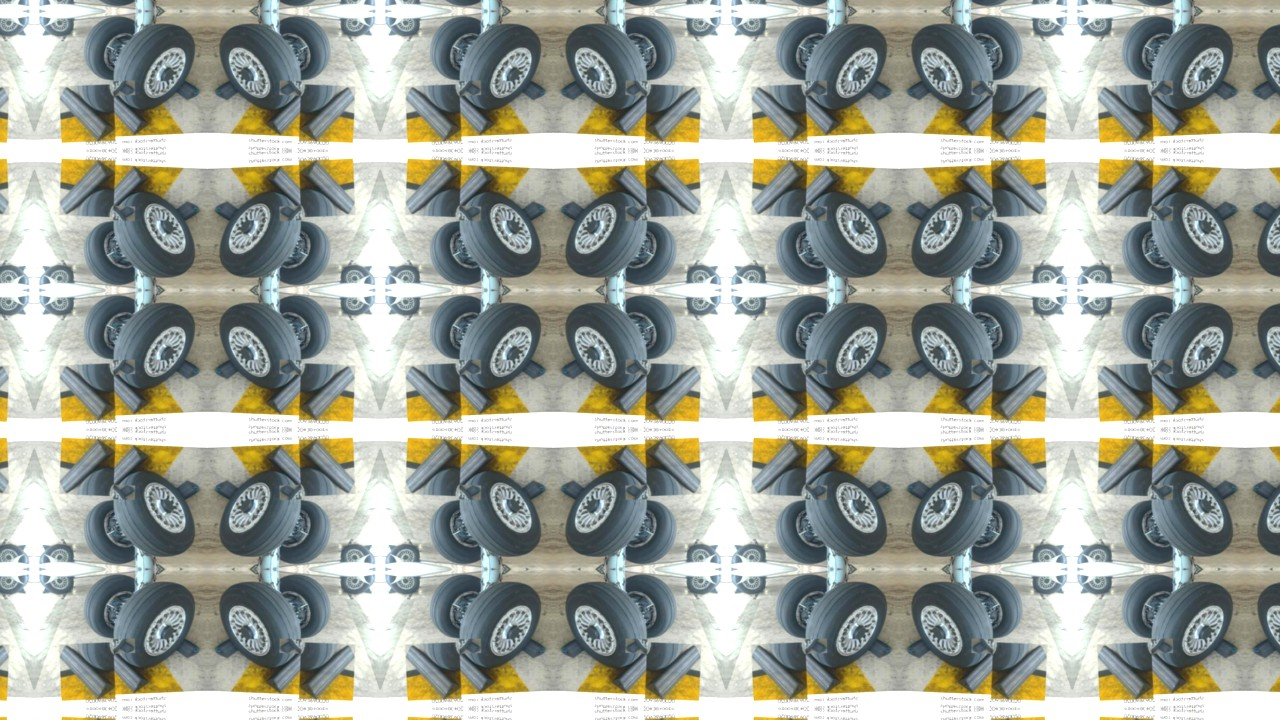chock: (58, 83, 114, 142), (298, 83, 354, 142), (405, 83, 461, 142), (645, 83, 701, 142), (752, 83, 808, 142), (992, 83, 1048, 142), (1099, 83, 1155, 142), (58, 158, 114, 217), (298, 158, 354, 217), (405, 158, 461, 217), (645, 158, 701, 217), (752, 158, 808, 217), (992, 158, 1048, 217), (1099, 158, 1155, 217), (58, 363, 114, 422), (298, 363, 354, 422), (405, 363, 461, 422), (645, 363, 701, 422), (752, 363, 808, 422), (992, 363, 1048, 422), (1099, 363, 1155, 422), (58, 438, 114, 497), (298, 438, 354, 497), (405, 438, 461, 497), (645, 438, 701, 497), (752, 438, 808, 497), (992, 438, 1048, 497), (1099, 438, 1155, 497), (58, 643, 114, 702), (298, 643, 354, 702), (405, 643, 461, 702), (645, 643, 701, 702), (752, 643, 808, 702), (992, 643, 1048, 702), (1099, 643, 1155, 702), (98, 84, 148, 135), (264, 84, 314, 135), (445, 84, 495, 135), (611, 84, 661, 135), (792, 84, 842, 135), (958, 84, 1008, 135), (1139, 84, 1189, 135), (98, 165, 148, 216), (264, 165, 314, 216), (445, 165, 495, 216), (611, 165, 661, 216), (792, 165, 842, 216), (958, 165, 1008, 216), (1139, 165, 1189, 216), (98, 364, 148, 415), (264, 364, 314, 415), (445, 364, 495, 415), (611, 364, 661, 415), (792, 364, 842, 415), (958, 364, 1008, 415), (1139, 364, 1189, 415), (98, 445, 148, 496), (264, 445, 314, 496), (445, 445, 495, 496), (611, 445, 661, 496), (792, 445, 842, 496), (958, 445, 1008, 496), (1139, 445, 1189, 496), (98, 644, 148, 695), (264, 644, 314, 695), (445, 644, 495, 695), (611, 644, 661, 695), (792, 644, 842, 695), (958, 644, 1008, 695), (1139, 644, 1189, 695), (163, 75, 199, 100), (213, 75, 249, 100), (510, 75, 546, 100), (560, 75, 596, 100), (857, 75, 893, 100), (907, 75, 943, 100), (1204, 75, 1240, 100), (163, 200, 199, 225), (213, 200, 249, 225), (510, 200, 546, 225), (560, 200, 596, 225), (857, 200, 893, 225), (907, 200, 943, 225), (1204, 200, 1240, 225), (163, 355, 199, 380), (213, 355, 249, 380), (510, 355, 546, 380), (560, 355, 596, 380), (857, 355, 893, 380), (907, 355, 943, 380), (1204, 355, 1240, 380), (163, 480, 199, 505), (213, 480, 249, 505), (510, 480, 546, 505), (560, 480, 596, 505), (857, 480, 893, 505), (907, 480, 943, 505), (1204, 480, 1240, 505), (163, 635, 199, 660), (213, 635, 249, 660), (510, 635, 546, 660), (560, 635, 596, 660), (857, 635, 893, 660), (907, 635, 943, 660), (1204, 635, 1240, 660), (1254, 75, 1280, 100), (1254, 200, 1280, 225), (1254, 355, 1280, 380), (1254, 480, 1280, 505), (1254, 635, 1280, 660), (0, 83, 7, 142), (0, 158, 7, 217), (0, 363, 7, 422), (0, 438, 7, 497), (0, 643, 7, 702), (112, 79, 134, 95), (278, 79, 300, 95), (459, 79, 481, 95), (625, 79, 647, 95), (806, 79, 828, 95), (972, 79, 994, 95), (1153, 79, 1175, 95), (112, 205, 134, 221), (278, 205, 300, 221), (459, 205, 481, 221), (625, 205, 647, 221), (806, 205, 828, 221), (972, 205, 994, 221), (1153, 205, 1175, 221), (112, 359, 134, 375), (278, 359, 300, 375), (459, 359, 481, 375), (625, 359, 647, 375), (806, 359, 828, 375), (972, 359, 994, 375), (1153, 359, 1175, 375), (112, 485, 134, 501), (278, 485, 300, 501), (459, 485, 481, 501), (625, 485, 647, 501), (806, 485, 828, 501), (972, 485, 994, 501), (1153, 485, 1175, 501), (112, 639, 134, 655), (278, 639, 300, 655), (459, 639, 481, 655), (625, 639, 647, 655), (806, 639, 828, 655), (972, 639, 994, 655), (1153, 639, 1175, 655), (16, 28, 27, 36), (38, 28, 49, 36), (363, 28, 374, 36), (385, 28, 396, 36), (710, 28, 721, 36), (732, 28, 743, 36), (1057, 28, 1068, 36), (1079, 28, 1090, 36), (16, 264, 27, 272), (38, 264, 49, 272), (363, 264, 374, 272), (385, 264, 396, 272), (710, 264, 721, 272), (732, 264, 743, 272), (1057, 264, 1068, 272), (1079, 264, 1090, 272), (16, 308, 27, 316), (38, 308, 49, 316), (363, 308, 374, 316), (385, 308, 396, 316), (710, 308, 721, 316), (732, 308, 743, 316), (1057, 308, 1068, 316), (1079, 308, 1090, 316), (16, 544, 27, 552), (38, 544, 49, 552), (363, 544, 374, 552), (385, 544, 396, 552), (710, 544, 721, 552), (732, 544, 743, 552), (1057, 544, 1068, 552), (1079, 544, 1090, 552), (16, 588, 27, 596), (38, 588, 49, 596), (363, 588, 374, 596), (385, 588, 396, 596), (710, 588, 721, 596), (732, 588, 743, 596), (1057, 588, 1068, 596), (1079, 588, 1090, 596)
wheel: (114, 23, 197, 109), (215, 23, 298, 109), (461, 23, 544, 109), (562, 23, 645, 109), (808, 23, 891, 109), (909, 23, 992, 109), (1155, 23, 1238, 109), (114, 191, 197, 277), (215, 191, 298, 277), (461, 191, 544, 277), (562, 191, 645, 277), (808, 191, 891, 277), (909, 191, 992, 277), (1155, 191, 1238, 277), (114, 303, 197, 389), (215, 303, 298, 389), (461, 303, 544, 389), (562, 303, 645, 389), (808, 303, 891, 389), (909, 303, 992, 389), (1155, 303, 1238, 389), (114, 471, 197, 557), (215, 471, 298, 557), (461, 471, 544, 557), (562, 471, 645, 557), (808, 471, 891, 557), (909, 471, 992, 557), (1155, 471, 1238, 557), (114, 583, 197, 669), (215, 583, 298, 669), (461, 583, 544, 669), (562, 583, 645, 669), (808, 583, 891, 669), (909, 583, 992, 669), (1155, 583, 1238, 669), (82, 15, 138, 81), (274, 15, 330, 81), (429, 15, 485, 81), (621, 15, 677, 81), (776, 15, 832, 81), (968, 15, 1024, 81), (1123, 15, 1179, 81), (82, 219, 138, 285), (274, 219, 330, 285), (429, 219, 485, 285), (621, 219, 677, 285), (776, 219, 832, 285), (968, 219, 1024, 285), (1123, 219, 1179, 285), (82, 295, 138, 361), (274, 295, 330, 361), (429, 295, 485, 361), (621, 295, 677, 361), (776, 295, 832, 361), (968, 295, 1024, 361), (1123, 295, 1179, 361), (82, 499, 138, 565), (274, 499, 330, 565), (429, 499, 485, 565), (621, 499, 677, 565), (776, 499, 832, 565), (968, 499, 1024, 565), (1123, 499, 1179, 565), (82, 575, 138, 641), (274, 575, 330, 641), (429, 575, 485, 641), (621, 575, 677, 641), (776, 575, 832, 641), (968, 575, 1024, 641), (1123, 575, 1179, 641), (1256, 23, 1280, 109), (1256, 191, 1280, 277), (1256, 303, 1280, 389), (1256, 471, 1280, 557), (1256, 583, 1280, 669), (38, 14, 73, 36), (339, 14, 374, 36), (385, 14, 420, 36), (686, 14, 721, 36), (732, 14, 767, 36), (1033, 14, 1068, 36), (1079, 14, 1114, 36), (38, 264, 73, 286), (339, 264, 374, 286), (385, 264, 420, 286), (686, 264, 721, 286), (732, 264, 767, 286), (1033, 264, 1068, 286), (1079, 264, 1114, 286), (38, 294, 73, 316), (339, 294, 374, 316), (385, 294, 420, 316), (686, 294, 721, 316), (732, 294, 767, 316), (1033, 294, 1068, 316), (1079, 294, 1114, 316), (38, 544, 73, 566), (339, 544, 374, 566), (385, 544, 420, 566), (686, 544, 721, 566), (732, 544, 767, 566), (1033, 544, 1068, 566), (1079, 544, 1114, 566), (38, 574, 73, 596), (339, 574, 374, 596), (385, 574, 420, 596), (686, 574, 721, 596), (732, 574, 767, 596), (1033, 574, 1068, 596), (1079, 574, 1114, 596), (0, 14, 27, 36), (0, 264, 27, 286), (0, 294, 27, 316), (0, 544, 27, 566), (0, 574, 27, 596), (38, 0, 73, 6), (339, 0, 374, 6), (385, 0, 420, 6), (686, 0, 721, 6), (732, 0, 767, 6), (1033, 0, 1068, 6), (1079, 0, 1114, 6), (0, 0, 27, 6)
